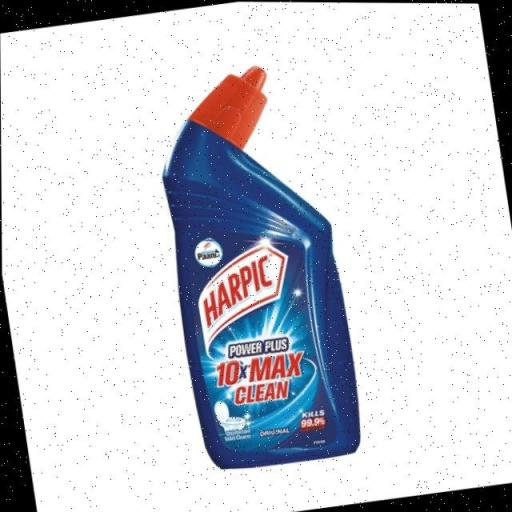plastic: (135, 44, 387, 490)
